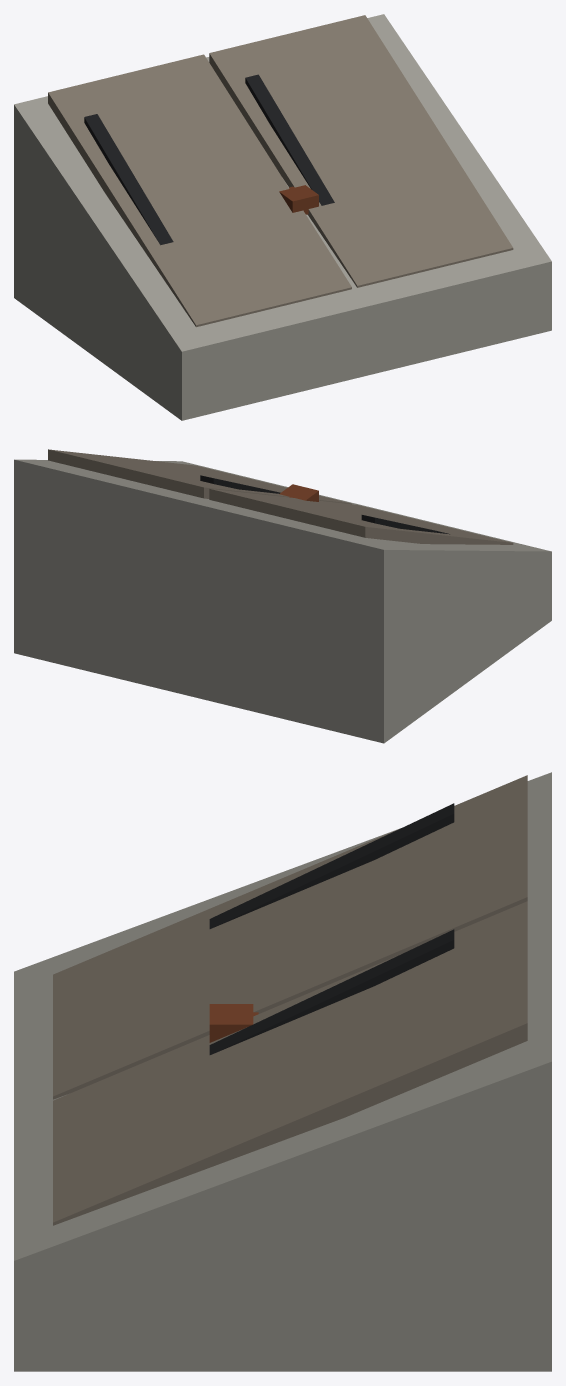
Rendered from cellar_door.glb.
The picture shows the model from 3 angles, top to bottom: view 1: azimuth 30°, elevation 25°; view 2: azimuth 150°, elevation 25°; view 3: azimuth 270°, elevation 25°; orthographic projection. The views are drawn at different scales.
Visible parts, largest first — view 1: cellar_door; view 2: cellar_door; view 3: cellar_door.
Part boxes in pixels (box(x1,y1,x2,y2)): cellar_door: box(14, 14, 551, 420); cellar_door: box(14, 449, 551, 743); cellar_door: box(14, 772, 551, 1371).
Size of the model in its own units: 1.4 by 0.74 by 1.1.
Materials: 1 (1 with a texture image).
